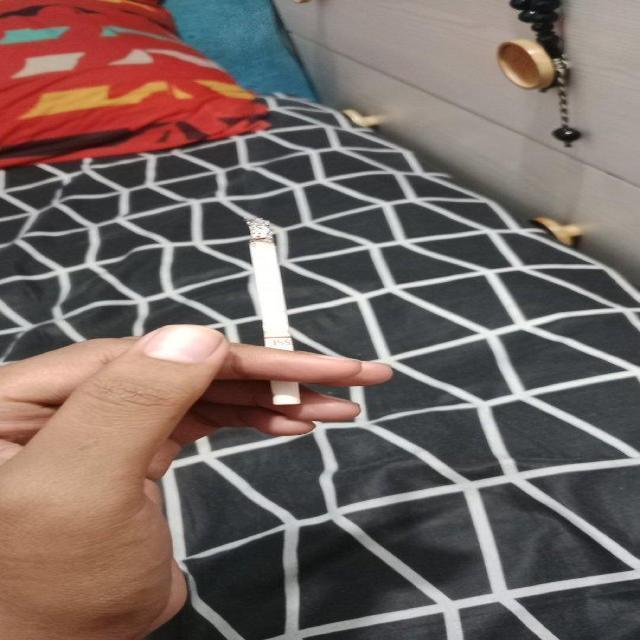rokok: (244, 213, 306, 405)
